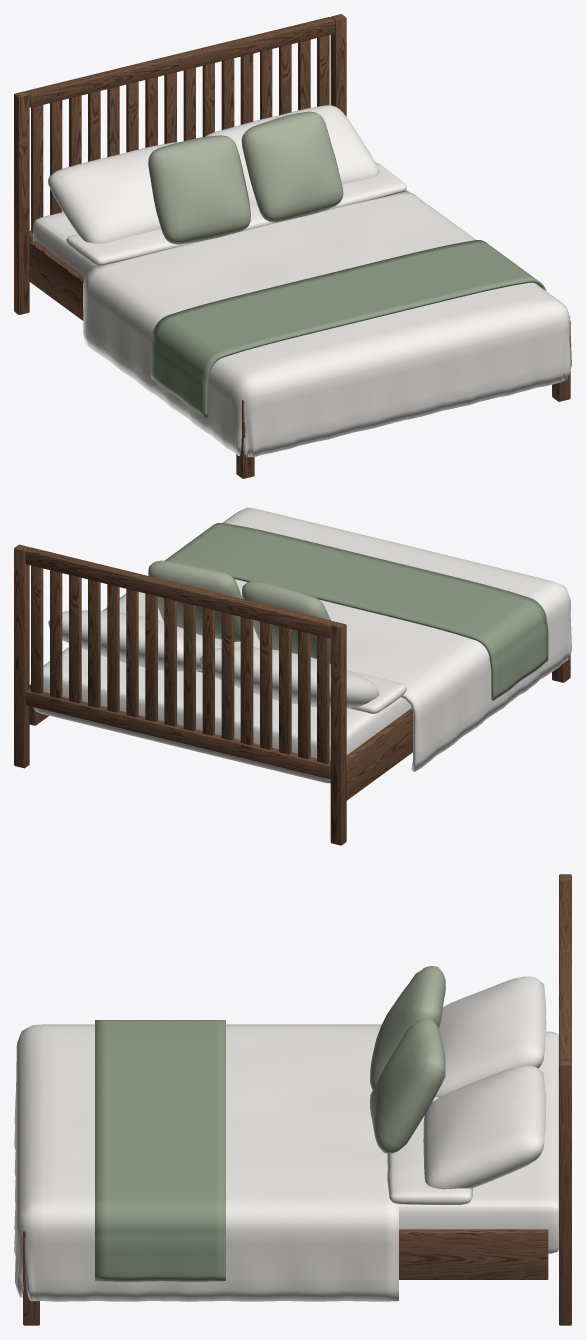
File: cama_listones_160.glb
The picture shows the model from 3 angles, top to bottom: view 1: azimuth 30°, elevation 25°; view 2: azimuth 150°, elevation 25°; view 3: azimuth 270°, elevation 25°; orthographic projection. The views are drawn at different scales.
Visible parts, largest first — view 1: cama_listones_160; view 2: cama_listones_160; view 3: cama_listones_160.
Part boxes in pixels (x1,y1,x2,y2): cama_listones_160: [14, 14, 571, 478]; cama_listones_160: [14, 507, 571, 845]; cama_listones_160: [14, 874, 571, 1325].
Bounding box in the file's own units: 1.82 × 1.1 × 2.13.
Materials: 4 (4 with a texture image).
